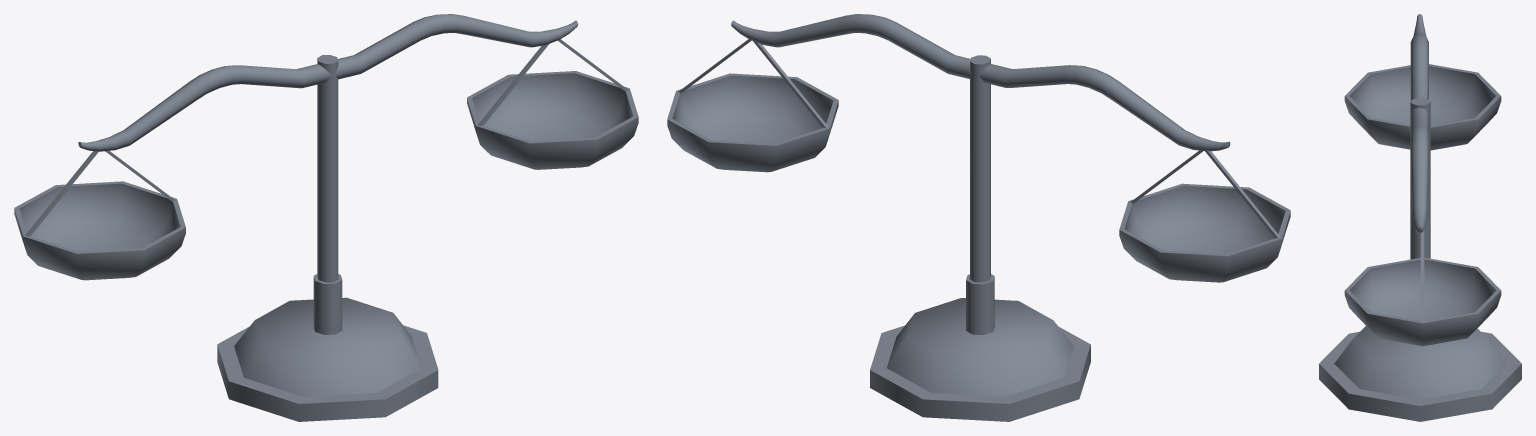
The model's file is misc_scale.glb.
3 renders of one model, left to right at view 1: azimuth 30°, elevation 25°; view 2: azimuth 150°, elevation 25°; view 3: azimuth 270°, elevation 25°, orthographic. The views are drawn at different scales.
Parts seen in each view (by area): view 1: misc_scale_pan, misc_scale, misc_scale_beam; view 2: misc_scale_pan, misc_scale, misc_scale_beam; view 3: misc_scale_pan, misc_scale, misc_scale_beam.
Boxes of the visible parts, bbox=[...] form: misc_scale_pan: bbox=[14, 39, 638, 280]; misc_scale: bbox=[217, 55, 438, 421]; misc_scale_beam: bbox=[78, 14, 578, 151]; misc_scale_pan: bbox=[667, 38, 1290, 282]; misc_scale: bbox=[870, 55, 1090, 421]; misc_scale_beam: bbox=[731, 14, 1230, 151]; misc_scale_pan: bbox=[1344, 64, 1501, 346]; misc_scale: bbox=[1319, 97, 1521, 421]; misc_scale_beam: bbox=[1410, 14, 1428, 232].
Size of the model in its own units: 60 by 31.54 by 19.75.
1 material, 1 textured.
